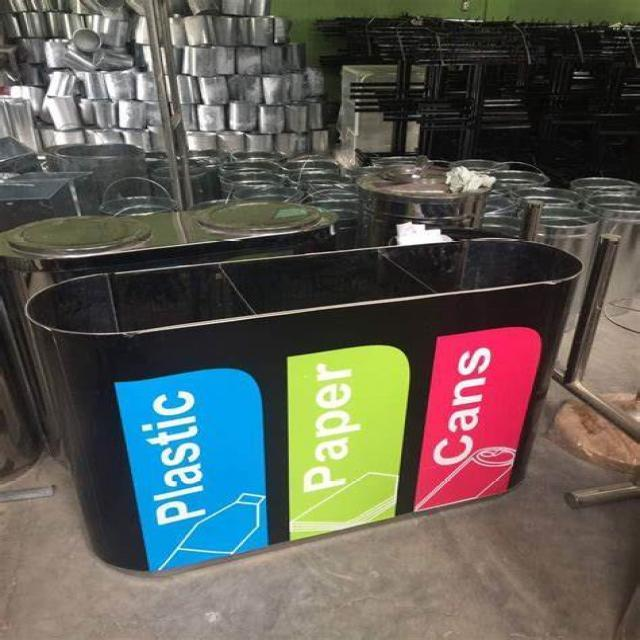garbage container: (23, 230, 612, 579)
